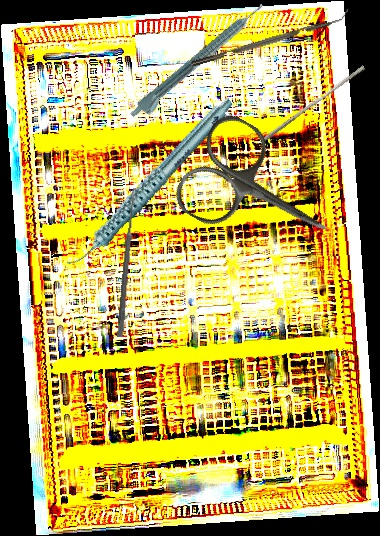Chopper: (188, 8, 353, 67)
Handpiece: (38, 96, 261, 270), (127, 0, 272, 126)
Iris Scissors: (168, 108, 353, 278)
Pusher: (263, 62, 366, 145)
Surgical Spoon: (116, 187, 138, 338)
